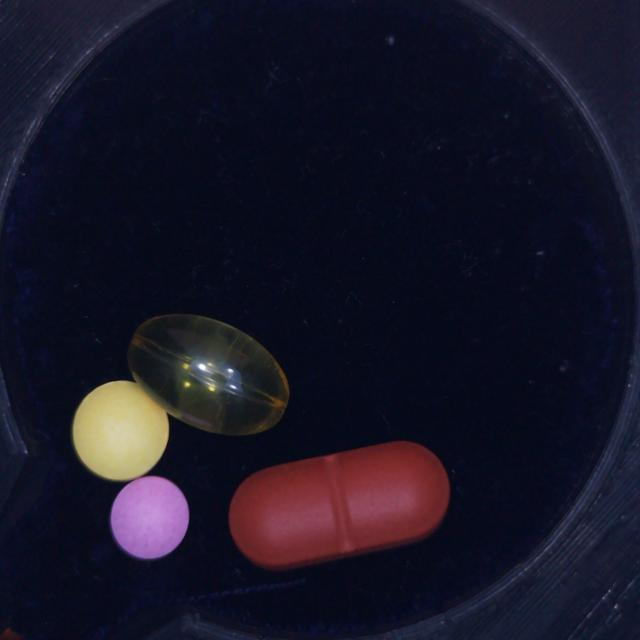Pill: (229, 441, 450, 569), (128, 314, 289, 435), (71, 381, 169, 482), (110, 476, 189, 560)
